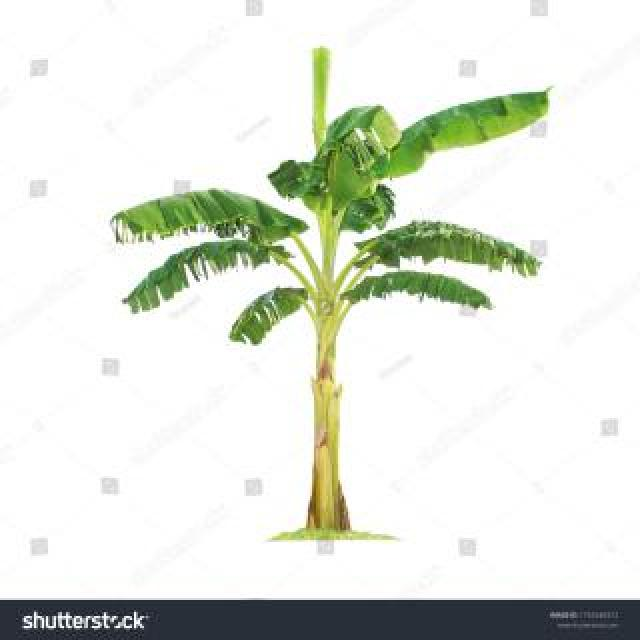Pisang: (108, 49, 548, 537)
